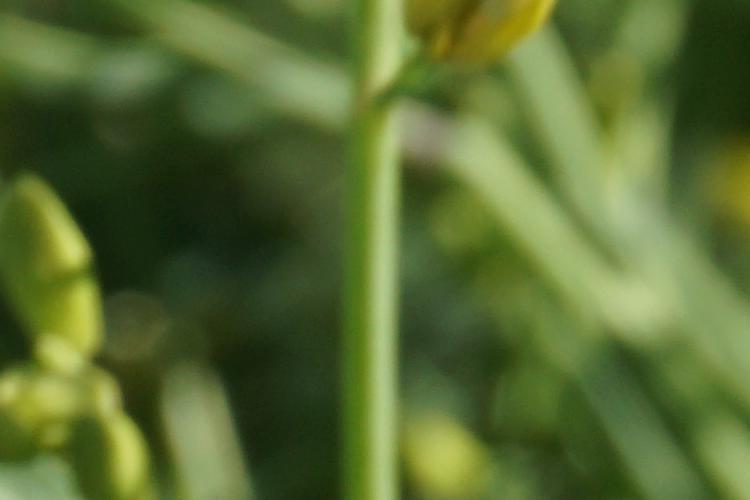bud: (6, 182, 112, 361), (432, 7, 559, 71)
